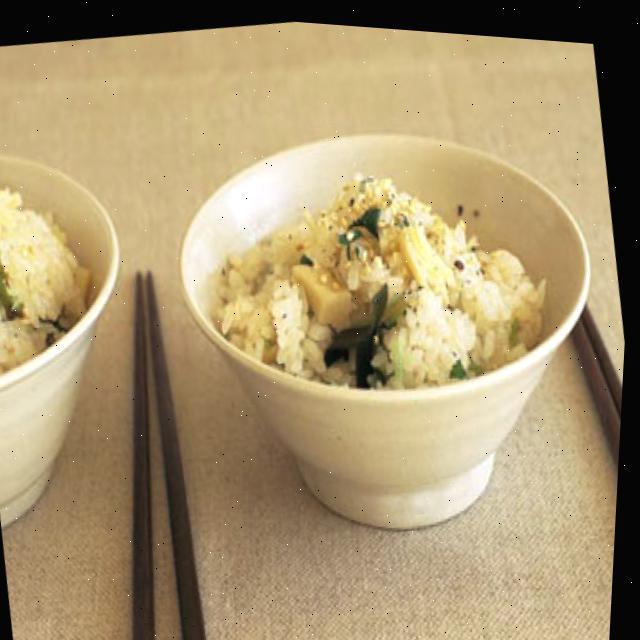米饭主食: (146, 76, 637, 596), (0, 116, 162, 539)
